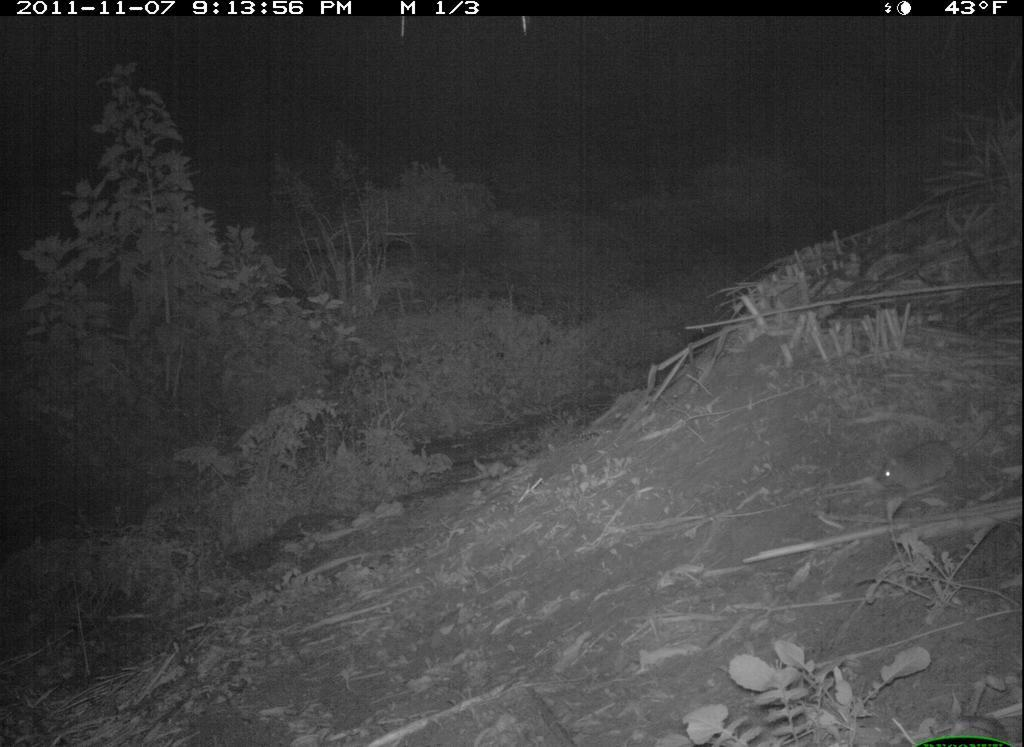rodent: (863, 422, 981, 506)
